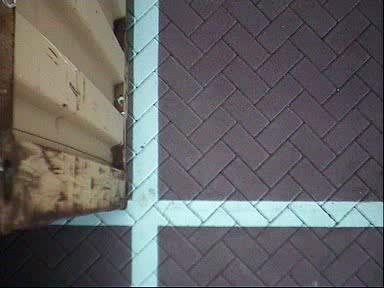groundmarker_2: (95, 195, 145, 230)
